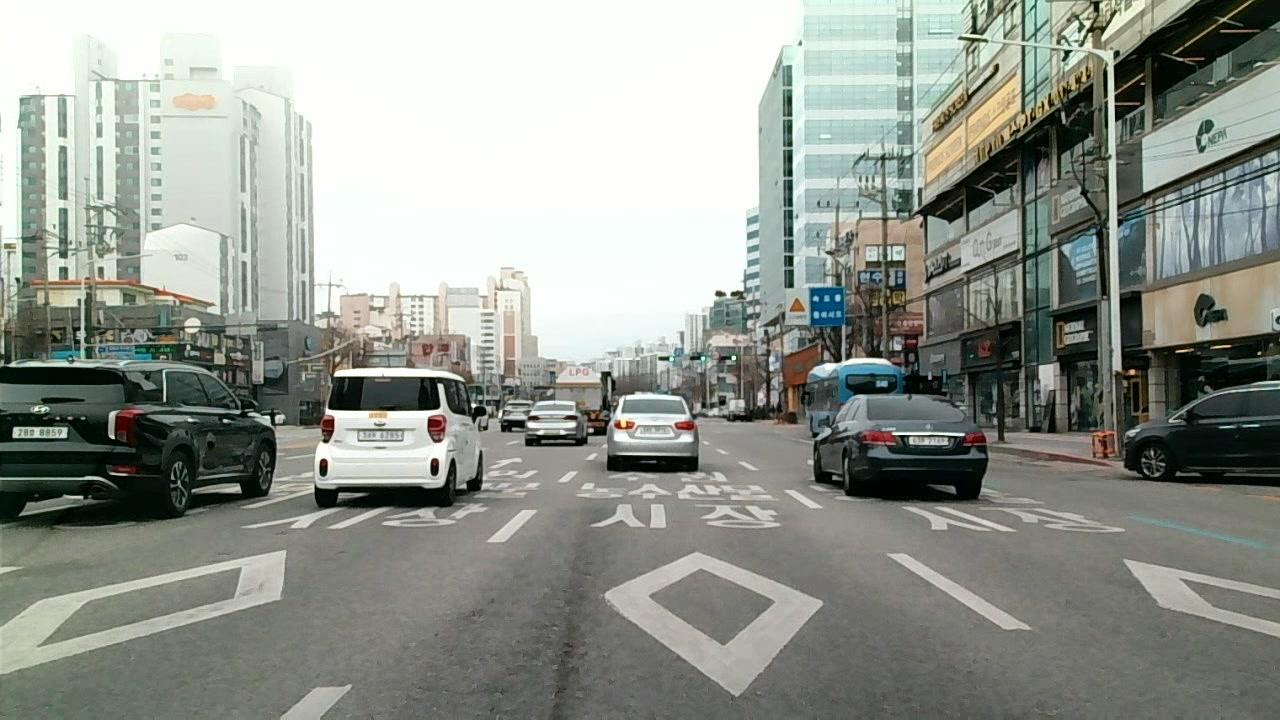vcrack: (545, 554, 584, 720)
